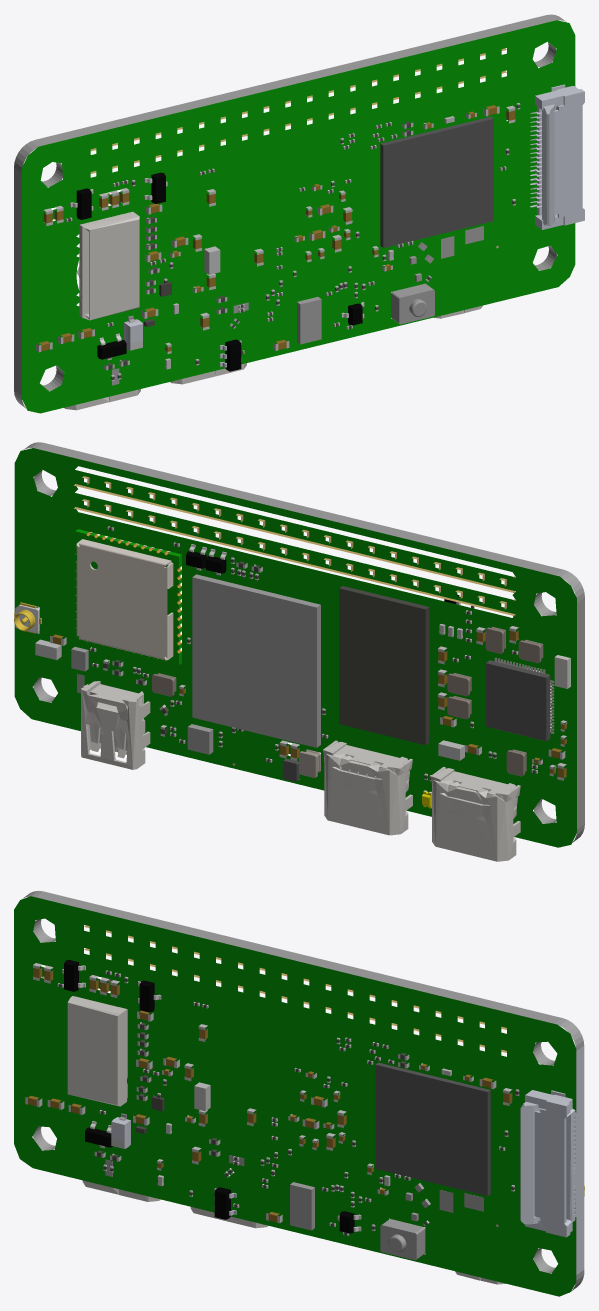
Rendered from radxa_zero3w.glb.
3 views of the same model, one above another, from view 1: azimuth 30°, elevation 25°; view 2: azimuth 150°, elevation 25°; view 3: azimuth 330°, elevation 25° (orthographic).
Visible parts, largest first — view 1: c1, c12, c6, c21, c13, c0, c10, c3, c8, c24, c4; view 2: c1, c6, c21, c8, c19, c12, c24, c0, c22, c18, c10, c3 (+2 smaller); view 3: c1, c12, c6, c13, c21, c0, c10, c3, c8, c24, c4.
Part boxes in pixels (x1,y1,x2,y2): c1: (22, 20, 575, 413); c12: (380, 116, 493, 247); c6: (14, 14, 566, 408); c21: (61, 212, 482, 410); c13: (530, 84, 584, 229); c0: (36, 103, 520, 381); c10: (39, 105, 515, 351); c3: (76, 172, 362, 371); c8: (68, 105, 519, 379); c24: (90, 48, 506, 173); c4: (124, 319, 241, 367); c1: (14, 448, 576, 847); c6: (23, 442, 584, 842); c21: (81, 655, 570, 861); c8: (91, 527, 536, 779); c19: (76, 539, 173, 660); c12: (113, 538, 550, 781); c24: (74, 476, 514, 615); c0: (35, 527, 567, 781); c22: (152, 627, 543, 776); c18: (75, 529, 181, 664); c10: (52, 532, 566, 778); c3: (186, 551, 459, 603); c1: (14, 896, 576, 1296); c12: (375, 1062, 490, 1196); c6: (22, 890, 584, 1292); c13: (520, 1046, 584, 1274); c21: (41, 976, 505, 1284); c0: (25, 963, 518, 1235); c10: (28, 967, 512, 1222); c3: (64, 960, 354, 1233); c8: (59, 971, 519, 1235); c24: (84, 925, 506, 1052); c4: (111, 1117, 236, 1215).
Size of the model in its own units: 65.02 by 31.51 by 7.68.
